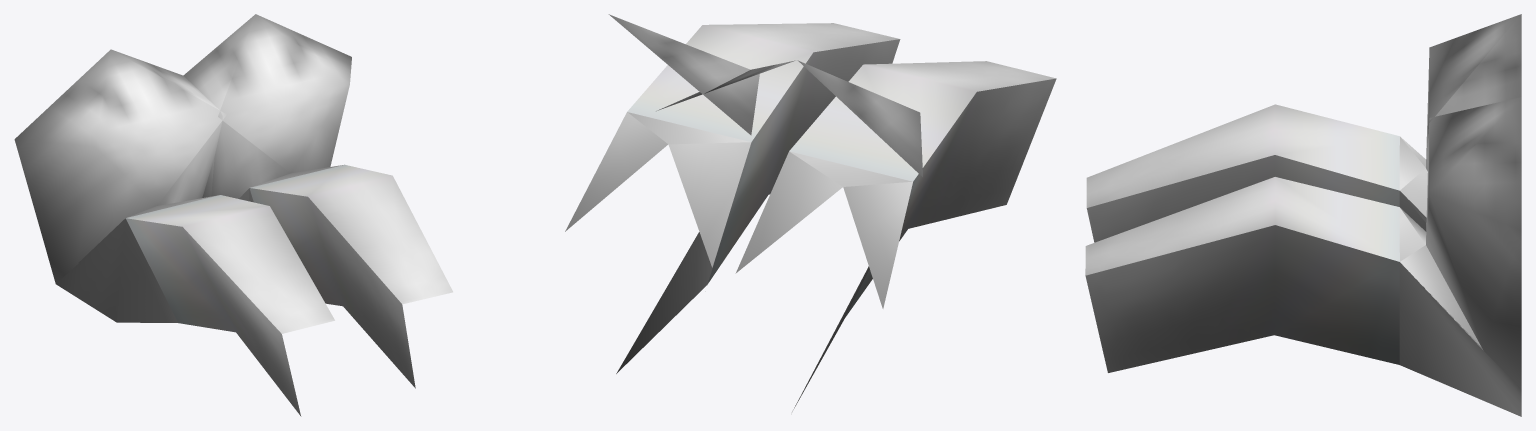
The model's file is legs_s_250.glb.
The picture shows the model from 3 angles, left to right: view 1: azimuth 30°, elevation 25°; view 2: azimuth 150°, elevation 25°; view 3: azimuth 270°, elevation 25°; orthographic projection. The views are drawn at different scales.
Visible parts, largest first — view 1: feet, legs; view 2: legs, feet; view 3: legs, feet.
Boxes of the visible parts, left/top/right/bottom form: feet: left=14, top=14, right=351, bottom=322; legs: left=125, top=164, right=452, bottom=416; legs: left=627, top=23, right=1056, bottom=316; feet: left=565, top=14, right=922, bottom=411; legs: left=1085, top=104, right=1399, bottom=372; feet: left=1399, top=14, right=1521, bottom=416.
Bounding box in the file's own units: 1.38 × 1.08 × 1.32.
Materials: 2 (2 with a texture image).
